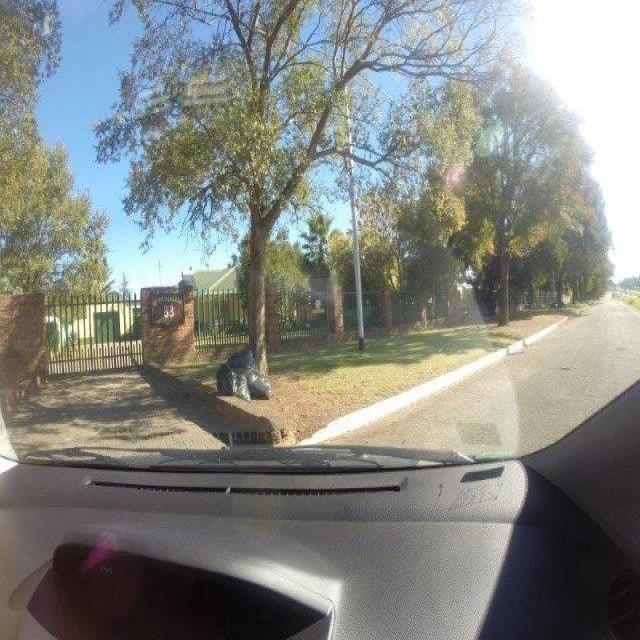lubang: (539, 366, 574, 374)
